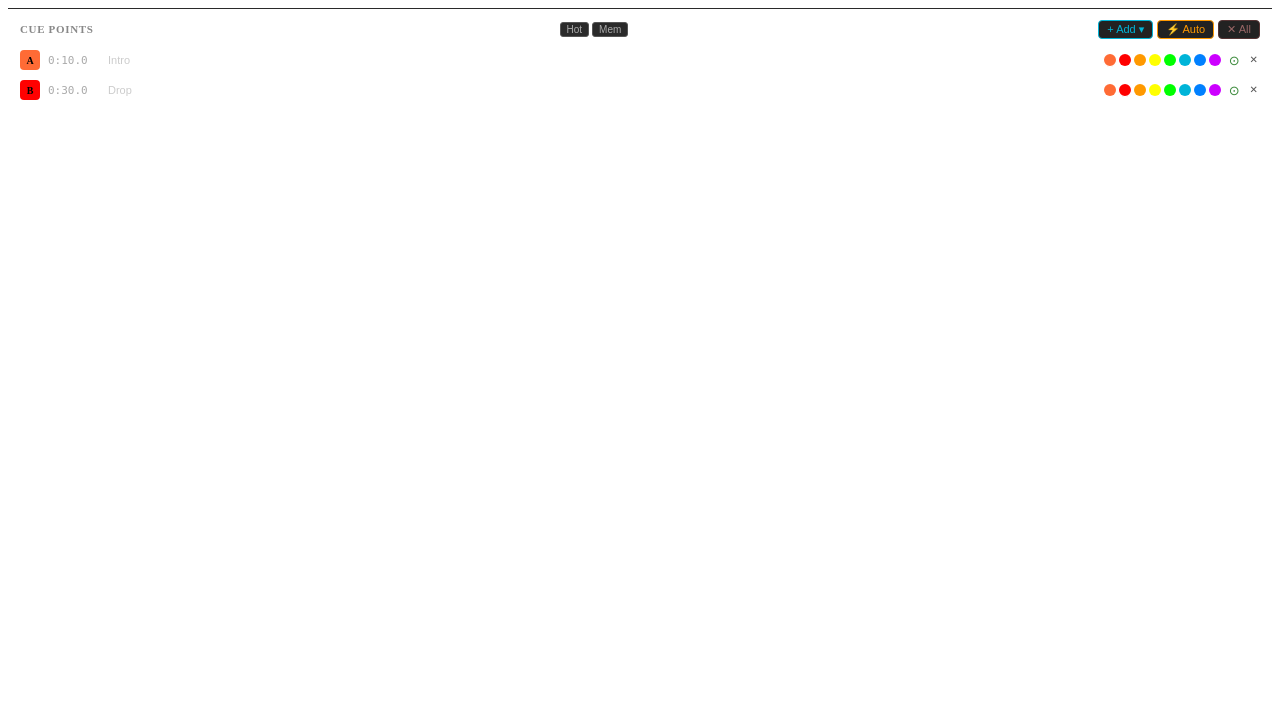
it: CuePointsEditor — hot cue slot swap › leaves both cues unchanged when the swap is cancelled
Click the text with class "cpe__badge" showing "B".
click(30, 90)  # box [20, 80, 40, 100]
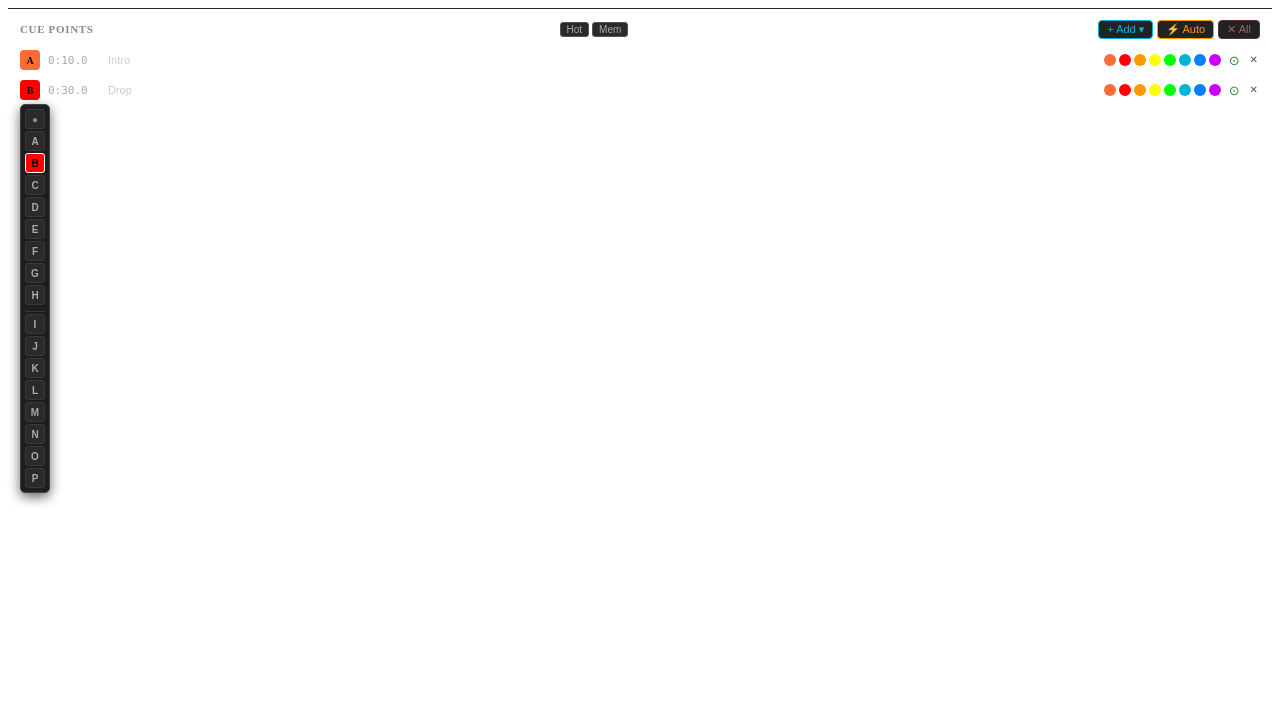
Click the button titled "Hot cue A".
click(35, 141)  # box [25, 131, 45, 151]
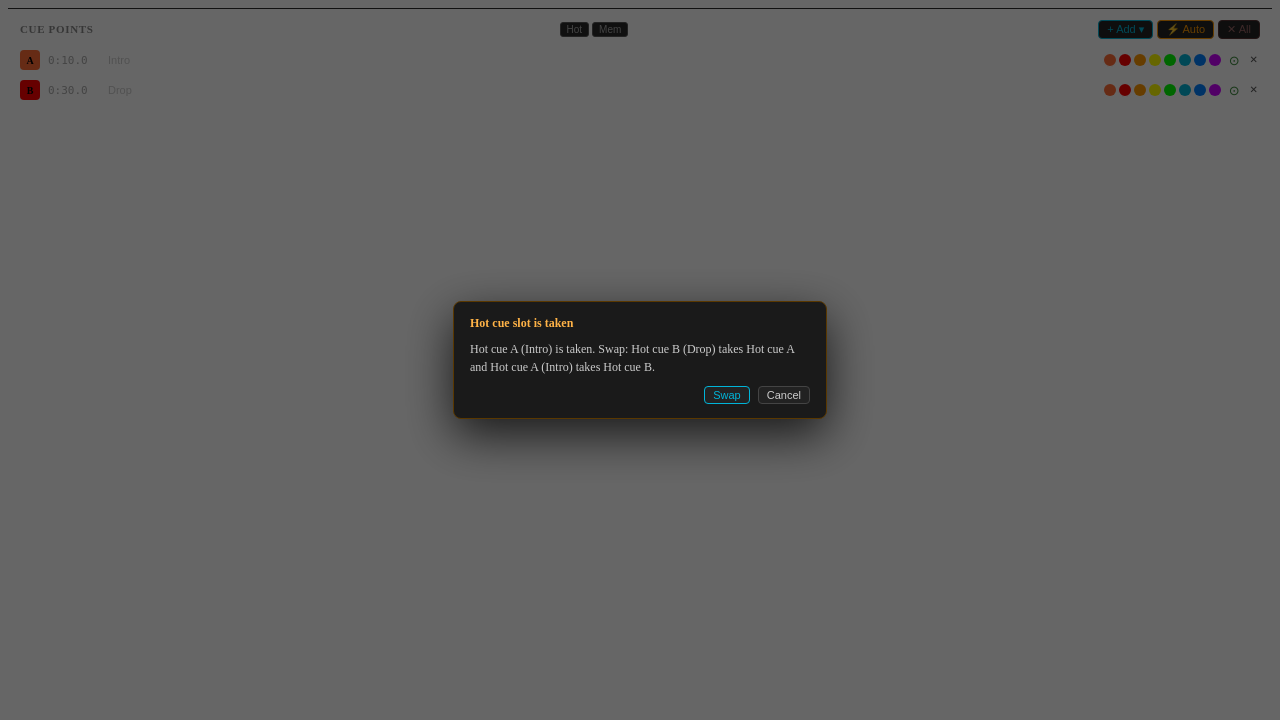
Click the button "Cancel".
click(784, 395)  # box [758, 386, 810, 404]
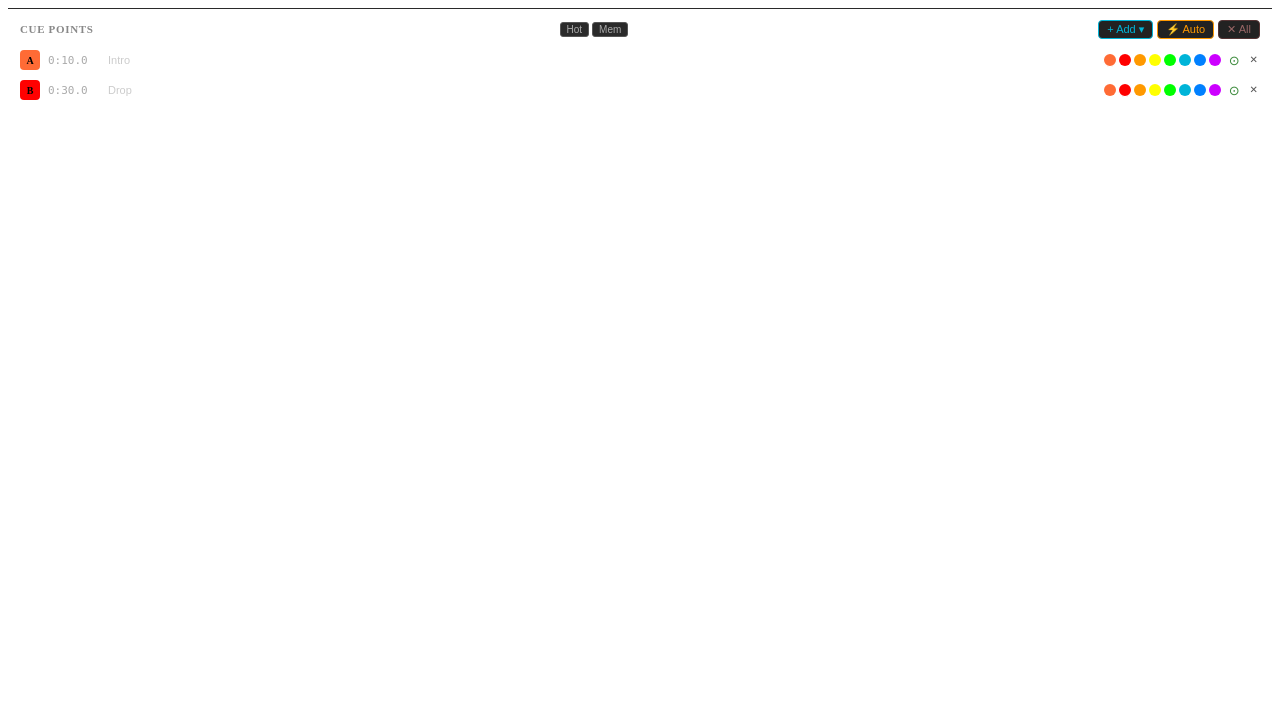
Expected: the dialog with class "cpe__confirm" is gone
